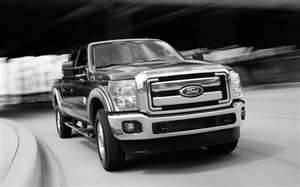car: (51, 37, 251, 175)
